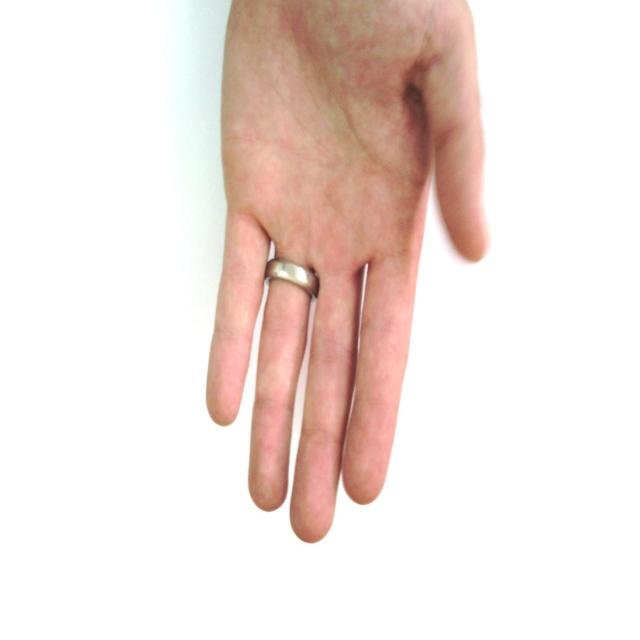others: (160, 1, 550, 544)
